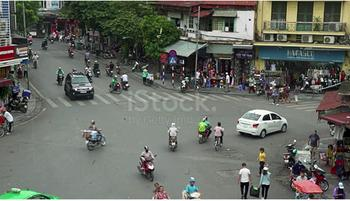bicycle: (209, 129, 226, 155)
car: (233, 105, 297, 148), (55, 69, 105, 103)
motorcycle: (139, 150, 164, 188), (77, 125, 112, 152), (195, 118, 217, 147), (0, 97, 32, 114), (165, 123, 181, 153), (105, 79, 125, 95), (54, 66, 67, 86), (119, 73, 133, 90), (91, 61, 103, 79), (28, 54, 41, 69), (84, 63, 94, 82), (107, 60, 115, 81)
